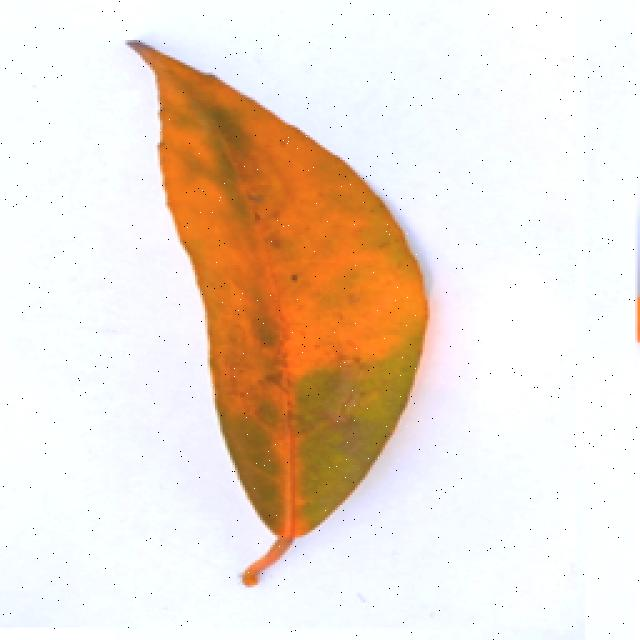blackspot: (103, 31, 455, 598)
